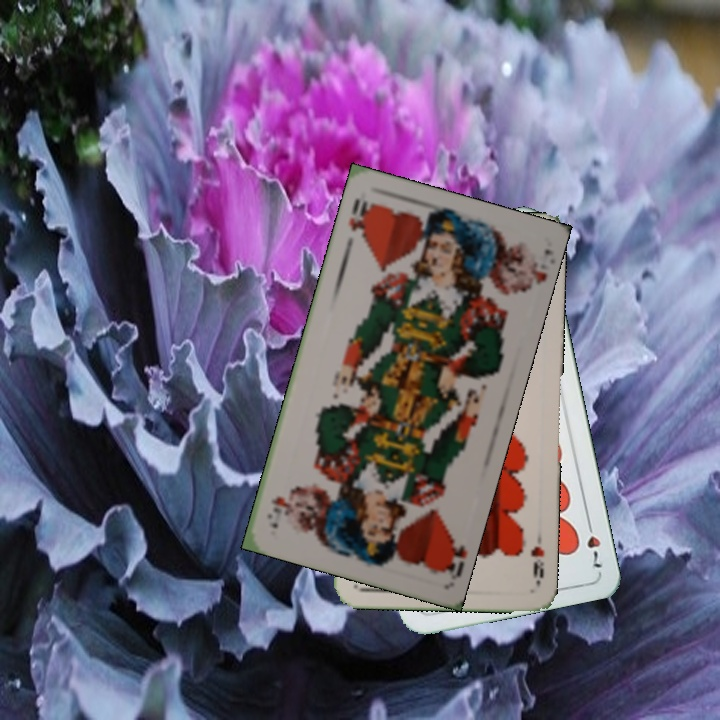H7: (582, 514, 604, 573)
H9: (526, 528, 547, 587)
HO: (435, 530, 469, 582), (345, 194, 376, 240)
